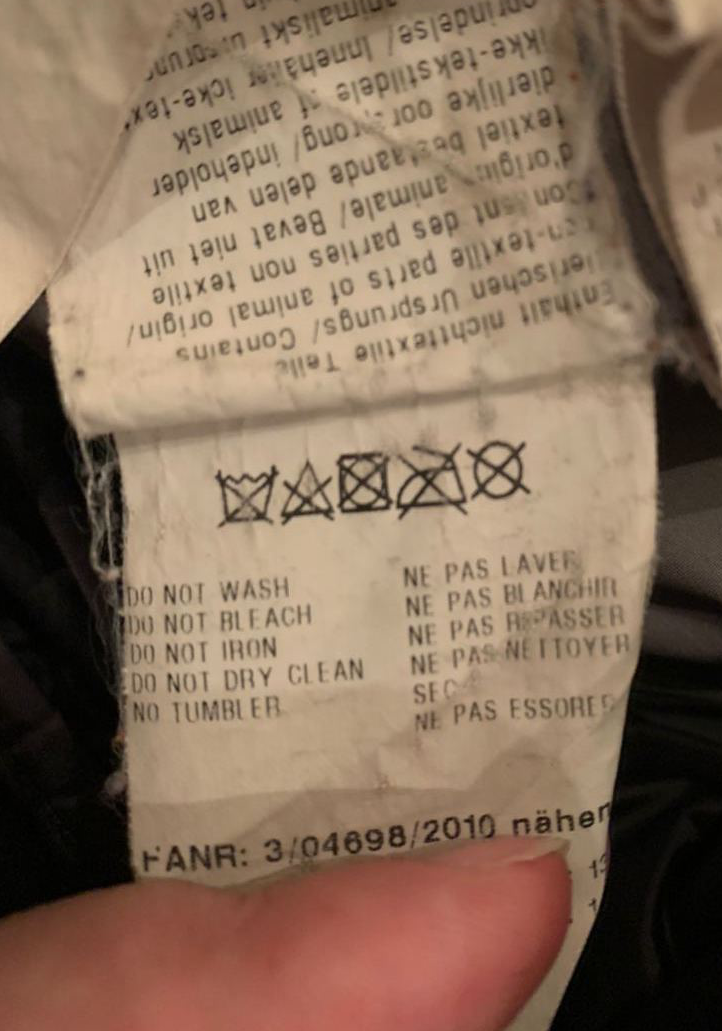do_not_bleach: (279, 458, 336, 523)
do_not_dry_clean: (470, 429, 531, 505)
do_not_iron: (391, 434, 469, 517)
do_not_tumble_drying: (334, 447, 395, 515)
do_not_wash: (214, 461, 282, 528)
